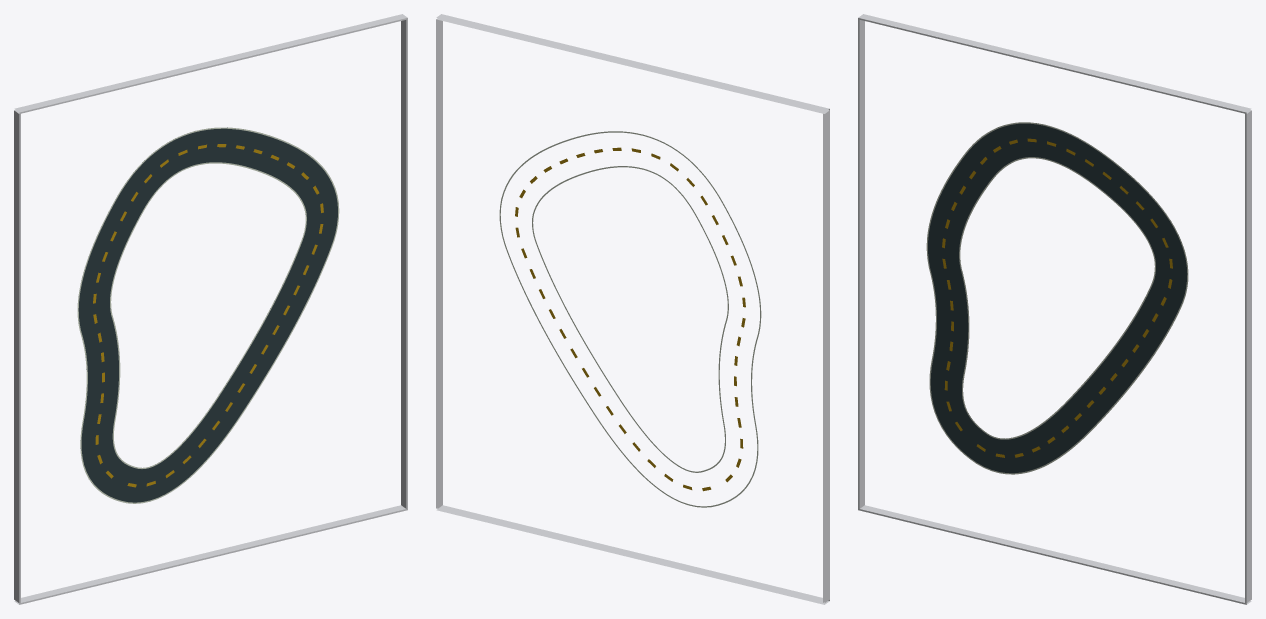
File: track.obj
3 views of the same model, side by side, from view 1: azimuth 30°, elevation 25°; view 2: azimuth 150°, elevation 25°; view 3: azimuth 330°, elevation 25° (orthographic).
Size of the model in its own units: 12.92 by 15.64 by 0.3.
4 materials, 4 textured.
